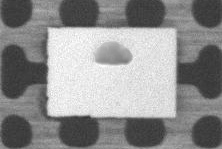DIE_INK: (127, 21, 210, 50)
